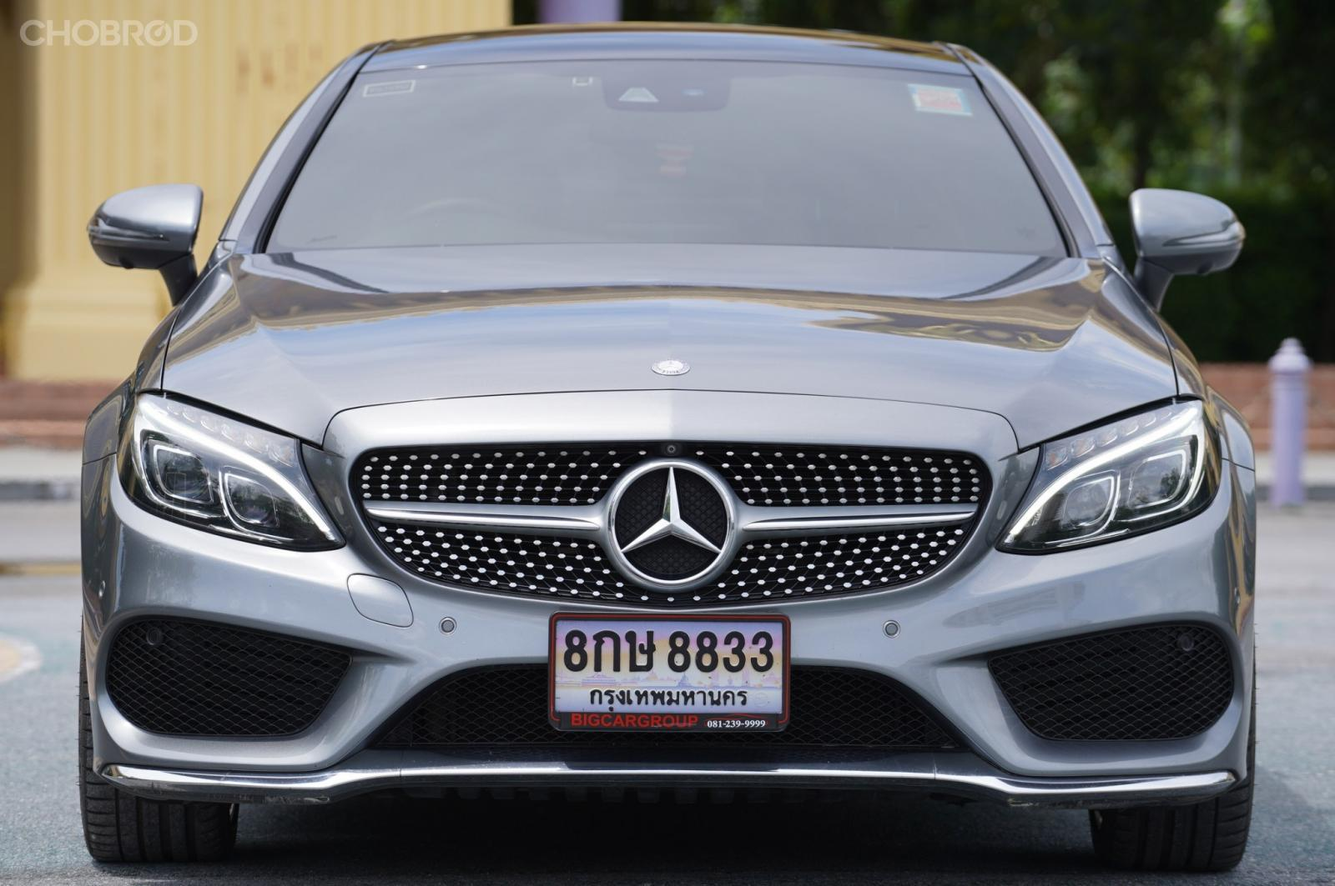license-plate: (546, 606, 794, 736)
